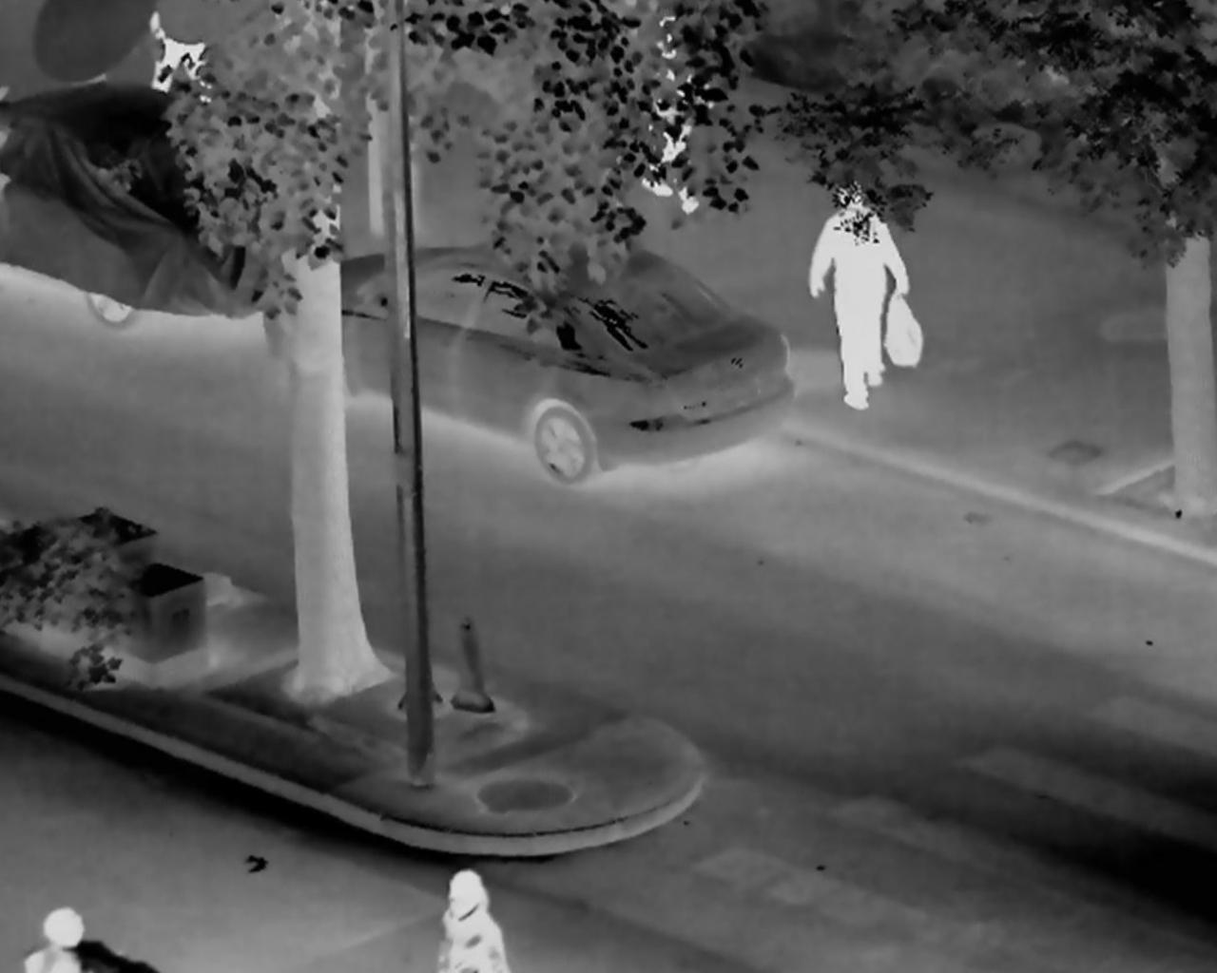person: (804, 180, 915, 413), (635, 15, 709, 213), (432, 873, 509, 973)
